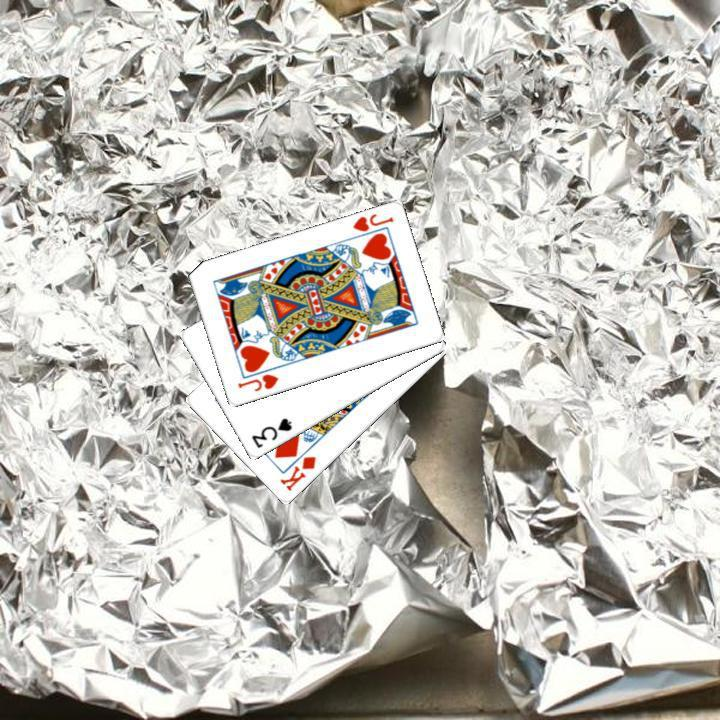3: (247, 414, 294, 451)
J: (233, 370, 280, 394), (348, 210, 395, 234)
K: (275, 452, 318, 493)
